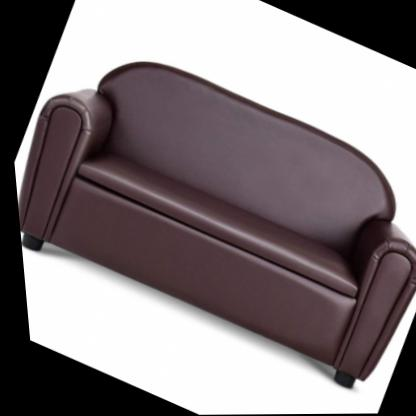Sofa: (2, 20, 416, 404)
